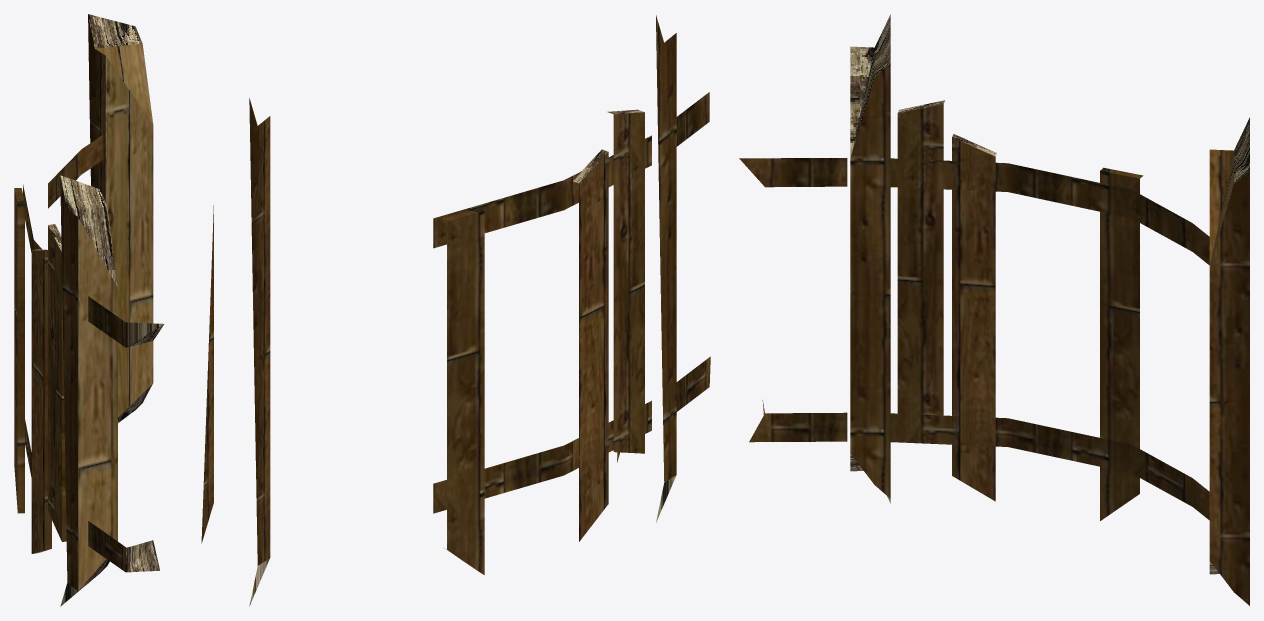
3 renders of one model, left to right at view 1: azimuth 30°, elevation 25°; view 2: azimuth 150°, elevation 25°; view 3: azimuth 270°, elevation 25°, orthographic. The views are drawn at different scales.
Visible parts, largest first — view 1: model_Object14; view 2: model_Object14; view 3: model_Object14.
Boxes of the visible parts, box(x1,y1,x2,y2) form: model_Object14: box(14, 14, 164, 606); model_Object14: box(201, 15, 710, 605); model_Object14: box(739, 14, 1249, 606).
Bounding box in the file's own units: 1.78 × 3.14 × 2.97.
3 materials, 3 textured.
